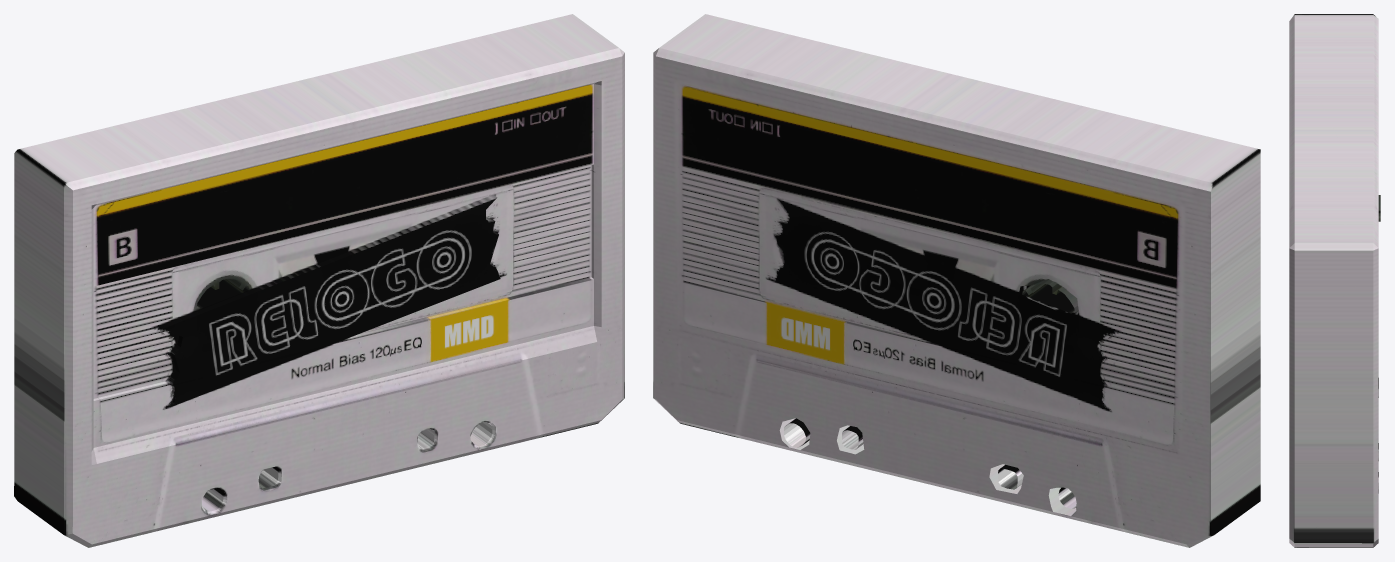
Rendered from 3DMODEL2.glb.
3 renders of one model, left to right at view 1: azimuth 30°, elevation 25°; view 2: azimuth 150°, elevation 25°; view 3: azimuth 270°, elevation 25°, orthographic. The views are drawn at different scales.
Parts seen in each view (by area): view 1: Cube; view 2: Cube; view 3: Cube.
Part boxes in pixels (x1=…): Cube: x1=14, y1=14, x2=624, y2=547; Cube: x1=653, y1=14, x2=1260, y2=547; Cube: x1=1289, y1=14, x2=1380, y2=547.
Size of the model in its own units: 2.6 by 1.64 by 0.4342.
Materials: 1 (1 with a texture image).
